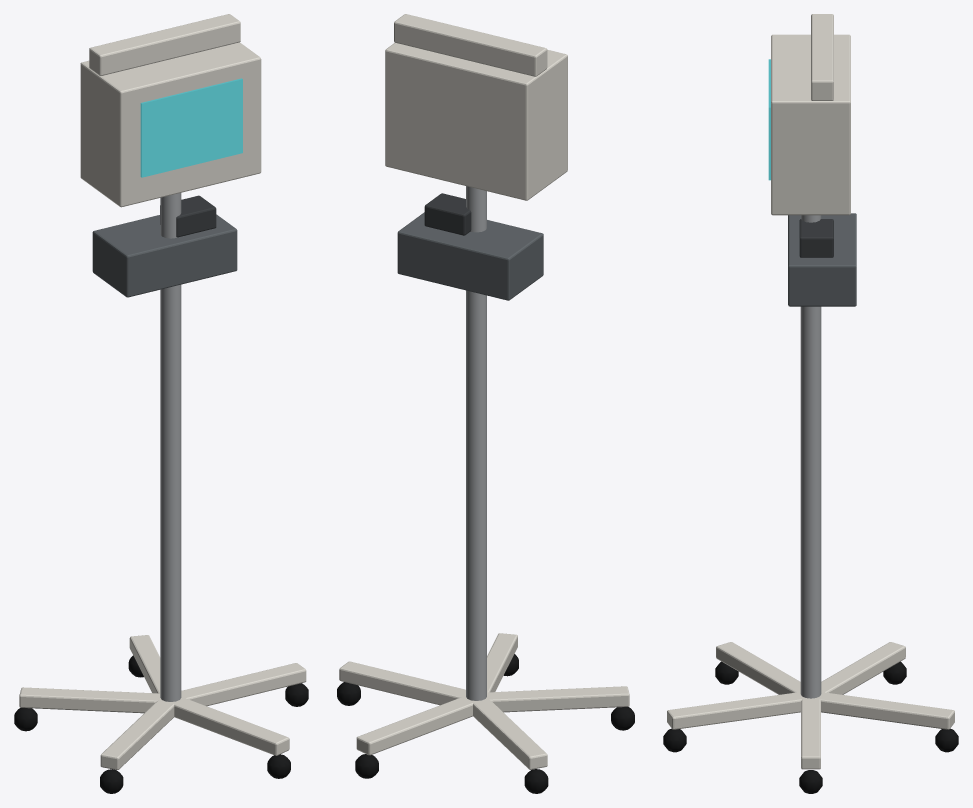
The model's file is PROP_Monitor_VitalSigns_Stand.glb.
3 renders of one model, left to right at view 1: azimuth 30°, elevation 25°; view 2: azimuth 150°, elevation 25°; view 3: azimuth 270°, elevation 25°, orthographic. The views are drawn at different scales.
Parts seen in each view (by area): view 1: PROP_Monitor_VitalSigns_Stand_Mesh, PROP_Monitor_VitalSigns_Stand_Screen; view 2: PROP_Monitor_VitalSigns_Stand_Mesh; view 3: PROP_Monitor_VitalSigns_Stand_Mesh.
Boxes of the visible parts, bbox=[...] form: PROP_Monitor_VitalSigns_Stand_Mesh: bbox=[14, 14, 308, 793]; PROP_Monitor_VitalSigns_Stand_Screen: bbox=[140, 78, 242, 177]; PROP_Monitor_VitalSigns_Stand_Mesh: bbox=[337, 14, 634, 793]; PROP_Monitor_VitalSigns_Stand_Mesh: bbox=[663, 14, 958, 793].
Size of what is drawn, in the model's own units: 0.4921 by 1.32 by 0.5163.
